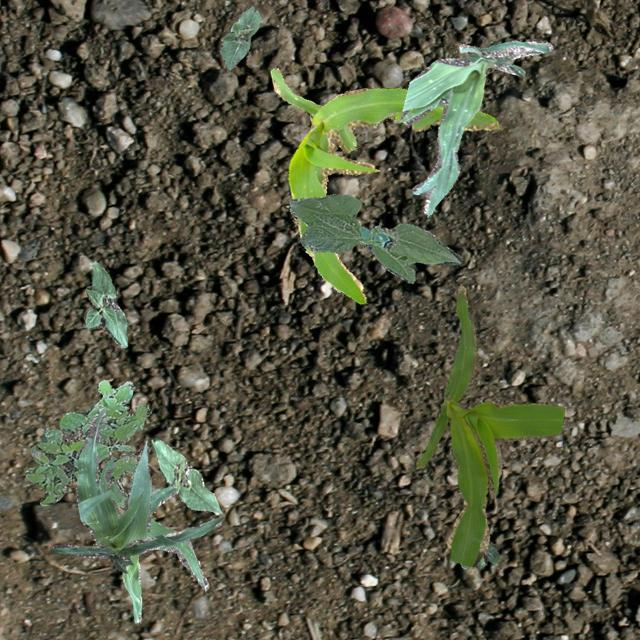crop: (270, 66, 500, 302), (416, 286, 564, 566), (50, 406, 224, 572), (398, 39, 552, 216), (288, 192, 462, 282), (121, 484, 208, 622), (150, 436, 222, 514), (82, 260, 126, 346), (218, 6, 260, 68)
weed: (23, 378, 146, 508), (459, 542, 498, 568)
